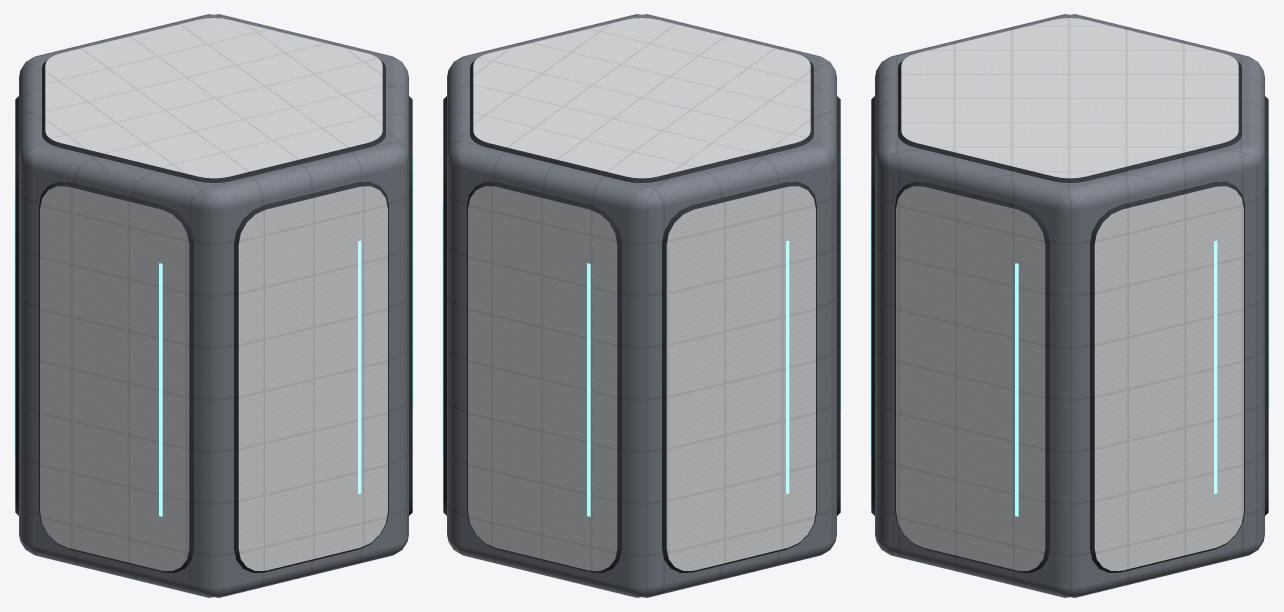
Rendered from R4B_HexColumn.glb.
3 views of the same model, side by side, from view 1: azimuth 30°, elevation 25°; view 2: azimuth 150°, elevation 25°; view 3: azimuth 270°, elevation 25° (orthographic).
Parts seen in each view (by area): view 1: R4B_HexColumn; view 2: R4B_HexColumn; view 3: R4B_HexColumn.
Part boxes in pixels (left/top/right/bottom): R4B_HexColumn: left=14, top=14, right=413, bottom=597; R4B_HexColumn: left=442, top=14, right=841, bottom=597; R4B_HexColumn: left=870, top=14, right=1269, bottom=597.
Size of the model in its own units: 0.5 by 0.52 by 0.4527.
4 materials, 3 textured.
